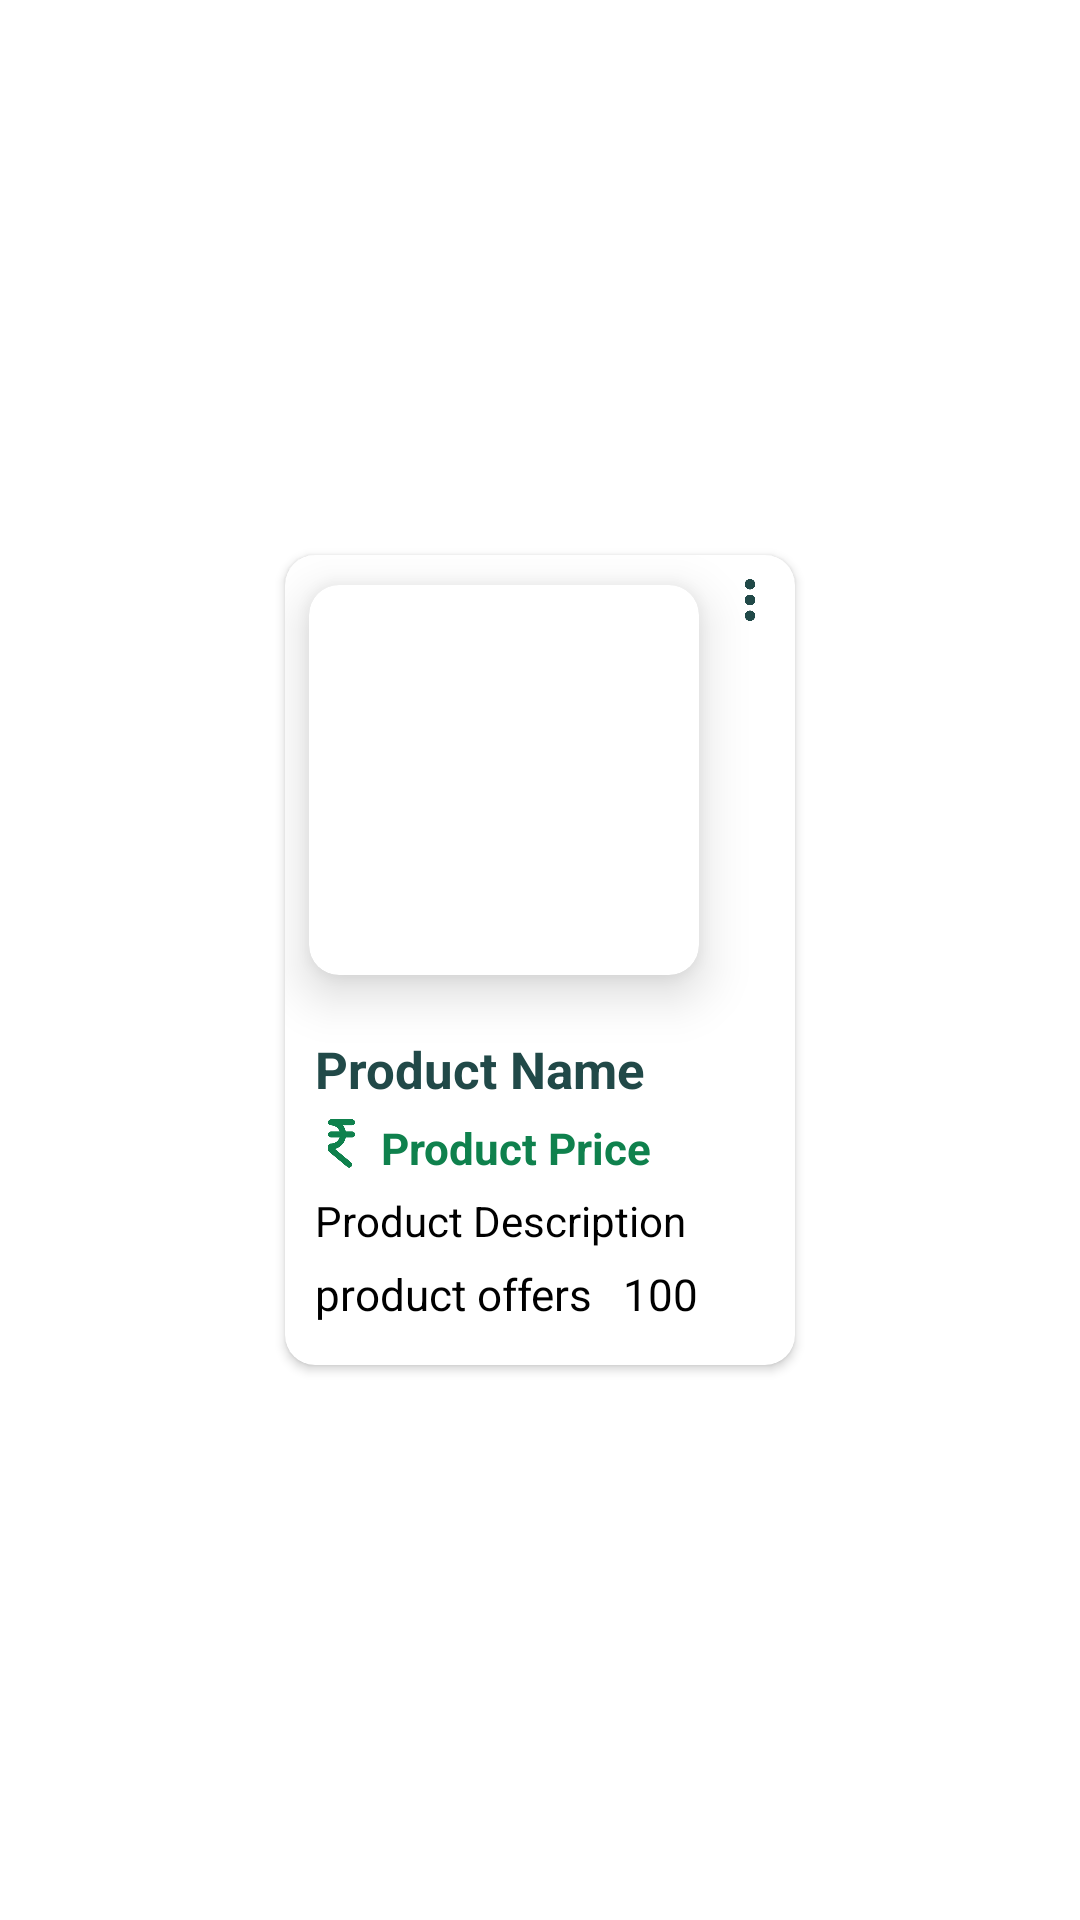

Icons on this 1080×1920 Android screen, each with its box as (x1, y1, x2, y2):
menuupdel: (745, 579, 755, 621)
ruppee: (328, 1119, 355, 1168)
